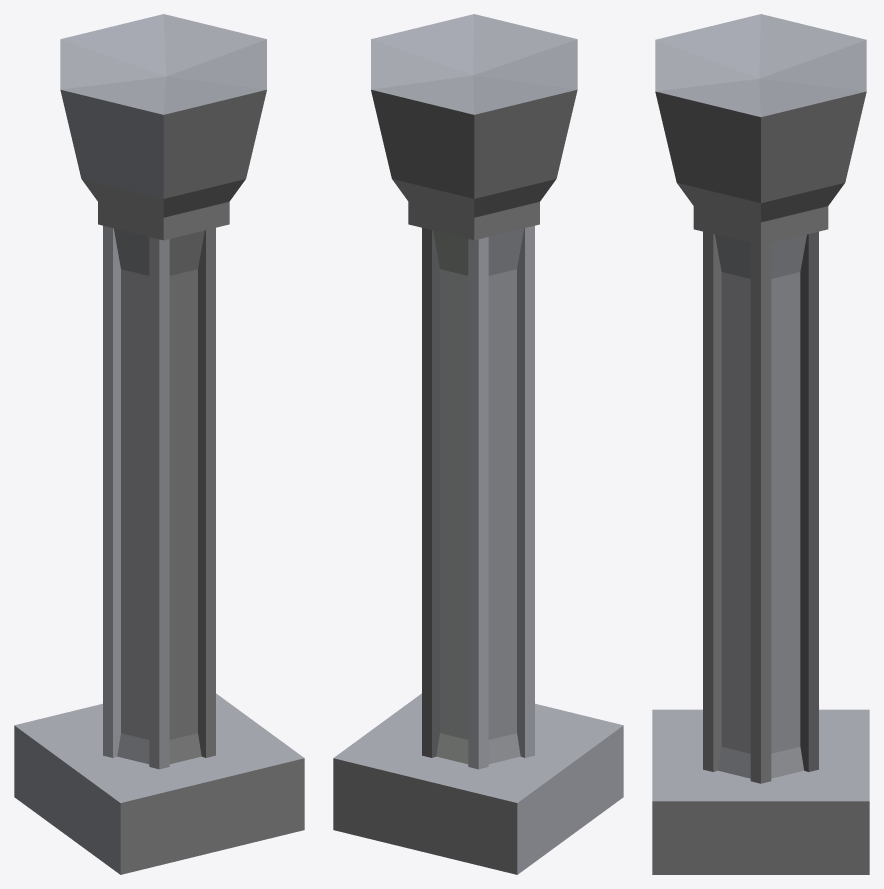
The model's file is Pilar Tesis gastada.fbx.
3 renders of one model, left to right at view 1: azimuth 30°, elevation 25°; view 2: azimuth 150°, elevation 25°; view 3: azimuth 270°, elevation 25°, orthographic. The views are drawn at different scales.
Parts seen in each view (by area): view 1: polySurface2; view 2: polySurface2; view 3: polySurface2.
Boxes of the visible parts, bbox=[...] form: polySurface2: bbox=[14, 14, 304, 874]; polySurface2: bbox=[333, 14, 623, 874]; polySurface2: bbox=[652, 14, 869, 874].
Size of the model in its own units: 1.55 by 5.36 by 1.38.
